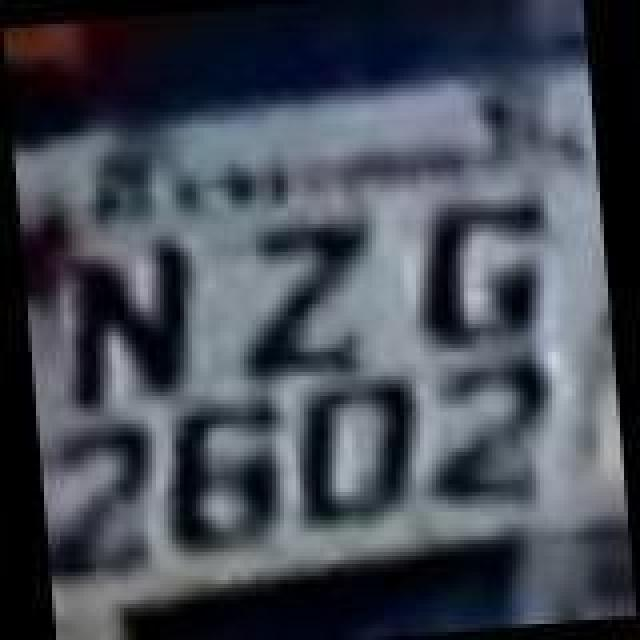2: (418, 350, 558, 514), (40, 422, 168, 586)
6: (158, 392, 290, 552)
G: (408, 184, 552, 352)
N: (54, 236, 202, 420)
O: (286, 374, 426, 538)
Z: (234, 210, 382, 390)
